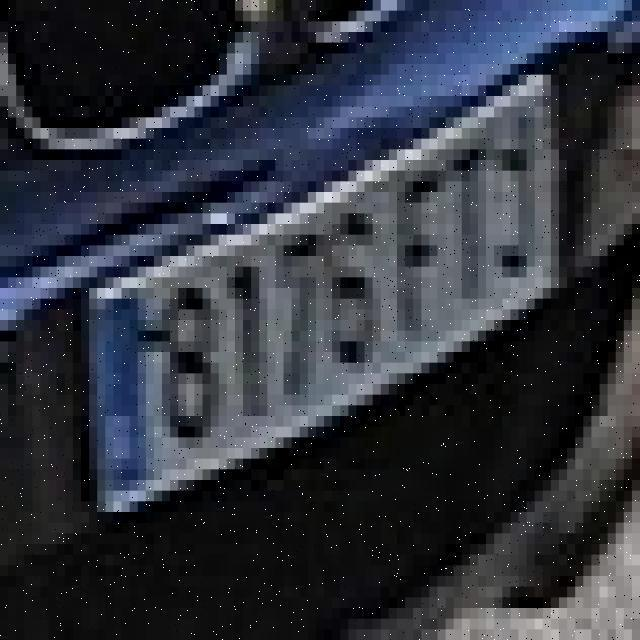LicensePlate: (53, 52, 580, 567)
